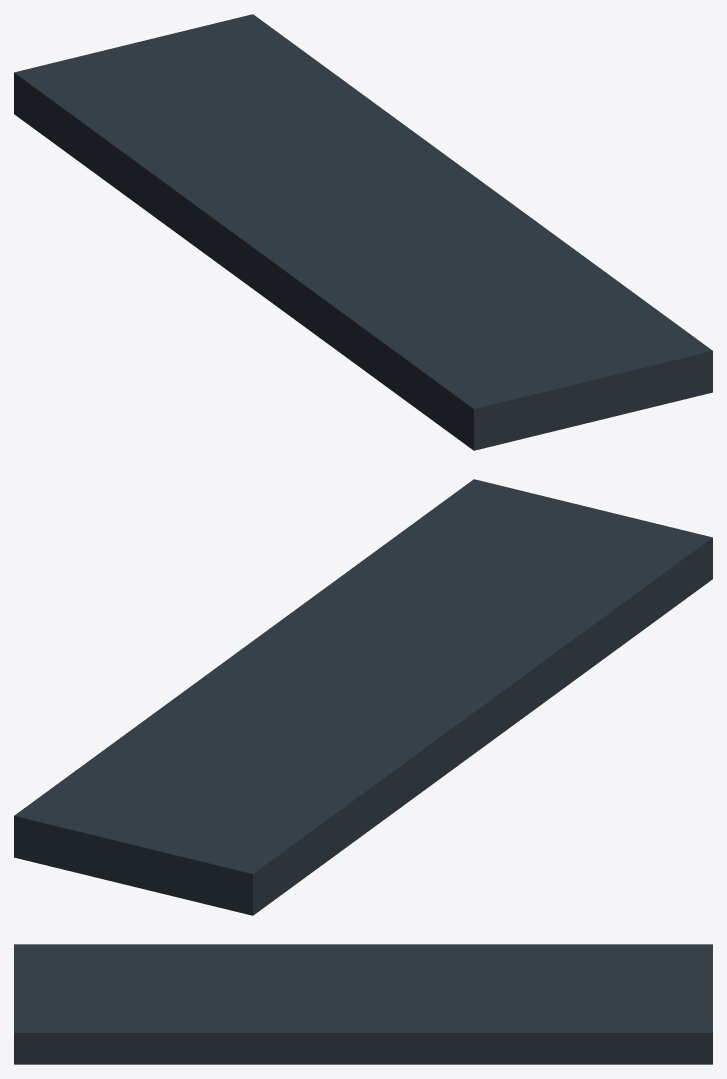
Rendered from Lamp.glb.
The picture shows the model from 3 angles, top to bottom: view 1: azimuth 30°, elevation 25°; view 2: azimuth 150°, elevation 25°; view 3: azimuth 270°, elevation 25°; orthographic projection. The views are drawn at different scales.
Parts seen in each view (by area): view 1: Cube; view 2: Cube; view 3: Cube.
Part boxes in pixels (<box>): Cube: <box>14,14,712,450</box>; Cube: <box>14,479,712,915</box>; Cube: <box>14,944,712,1064</box>.
Size of the model in its own units: 0.3 by 0.05 by 1.
